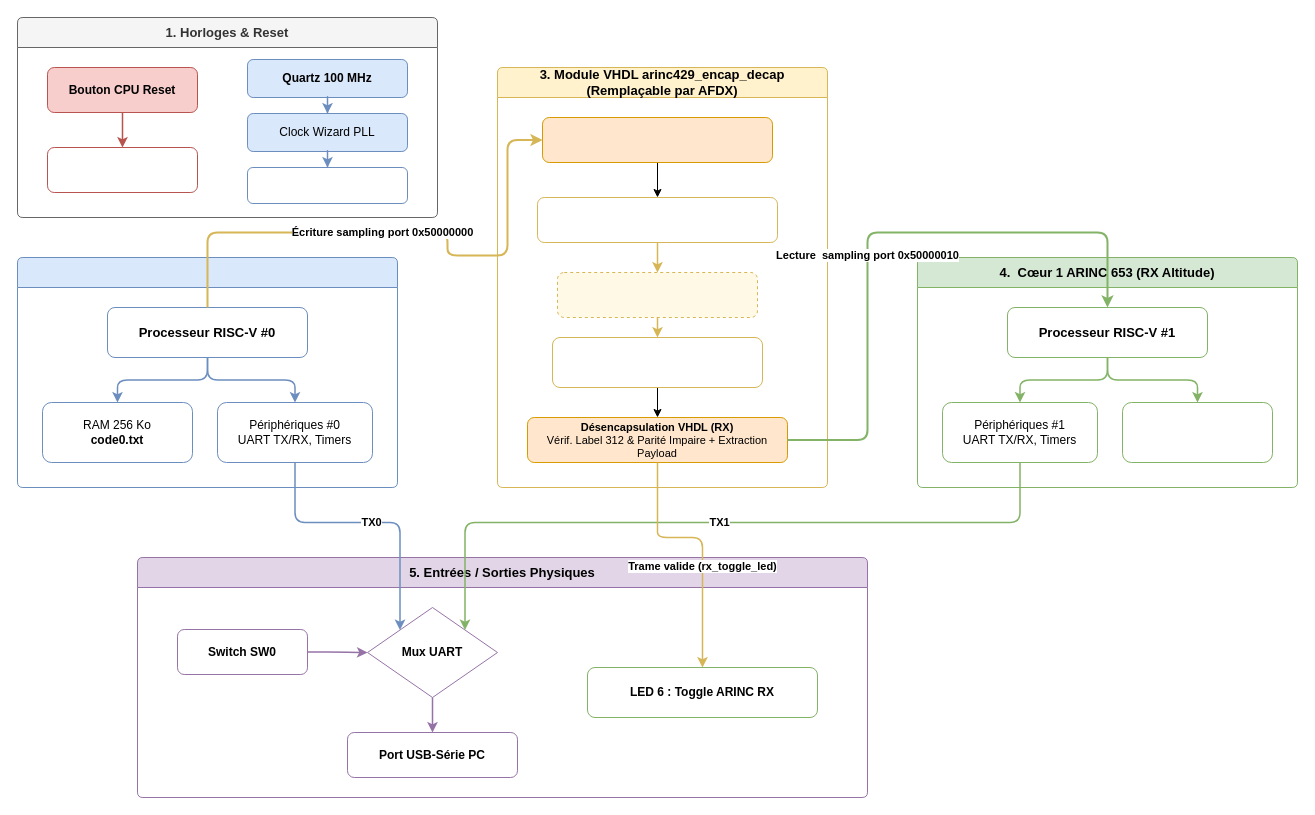
This 1315x815 diagram has some shape labels left out. Each missing label, with the box of its shape:
2. Cœur 0 ARINC 653 (TX Altitude): (16, 256, 398, 488)
clk_25mhz: (246, 166, 408, 204)
Décodeur ARINC (data_out, new_data): (552, 336, 762, 388)
Encapsulation VHDL (TX) Ajout Label 312 (0x53), SDI, SSM + Calcul Parité Impaire: (542, 116, 772, 162)
Encodeur ARINC (data_in, delay, speed): (536, 196, 778, 242)
Liaison série interne (port_A, port_B): (556, 272, 758, 318)
RAM 256 Ko code1.txt: (1122, 402, 1272, 462)
reset_soc: (46, 146, 198, 192)
